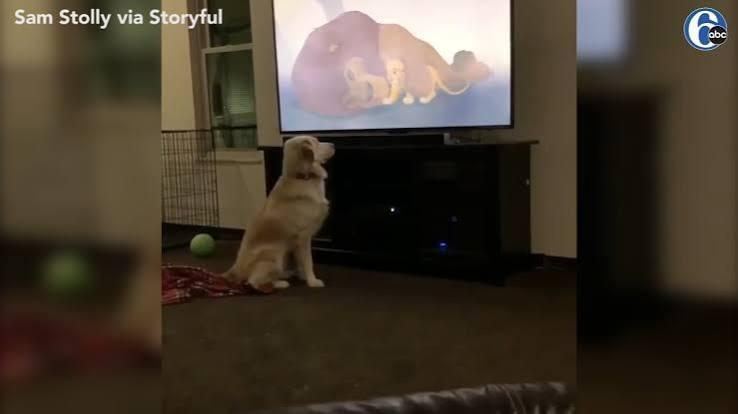adult_dog: (217, 132, 337, 298)
